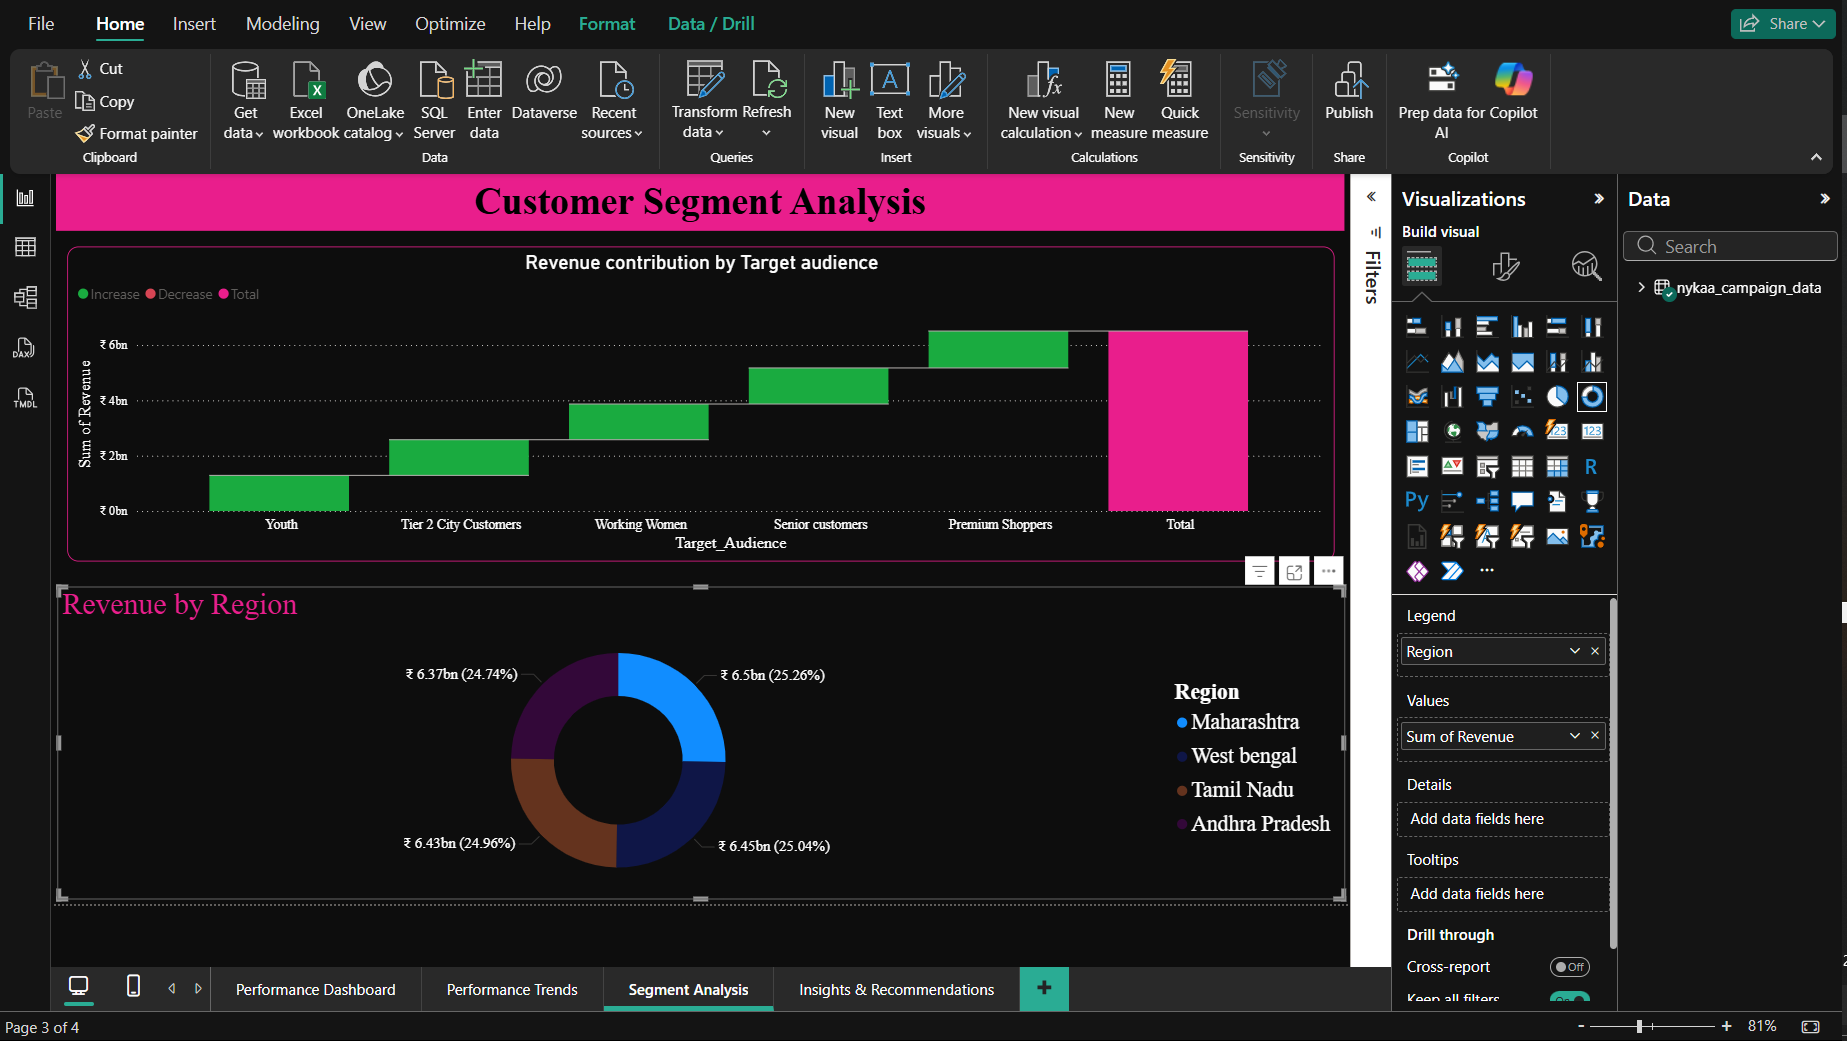

The page's visual inventory and layout, read from the dashboard file:
{"tool":"powerbi","page":{"name":"Segment Analysis","canvas":[1280,720],"ordinal":2},"visuals":[{"type":"textbox","box":[5.3,0,1269.4,55.8],"z":0},{"type":"waterfallChart","title":"Revenue contribution by Target audience","fields":{"Category":["nykaa_campaign_data.Target_Audience"],"Y":["Sum(nykaa_campaign_data.Revenue)"]},"box":[16,71.4,1249,310.4],"z":1000},{"type":"donutChart","title":"Revenue by Region","fields":{"Category":["nykaa_campaign_data.Region"],"Y":["Sum(nykaa_campaign_data.Revenue)"]},"box":[6,406,1269,310],"z":2000}]}

Visuals, with their boxes on the page's 1280x720 design canvas (x1, y1, x2, y2). These are canvas units, not pixel positions in the 1847x1041 screenshot, which may show the page scaled, cropped or inside an application window:
textbox: rect(5, 0, 1275, 56)
"Revenue contribution by Target audience" waterfallChart: rect(16, 71, 1265, 382)
"Revenue by Region" donutChart: rect(6, 406, 1275, 716)
